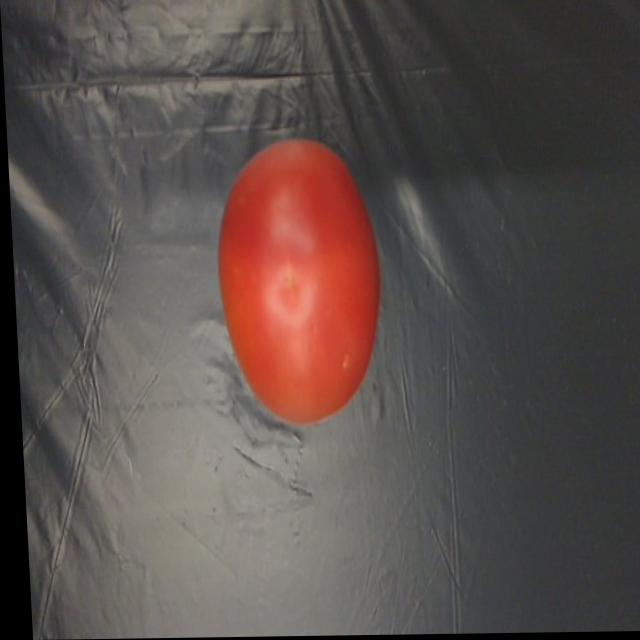kirmizi: (189, 111, 418, 472)
